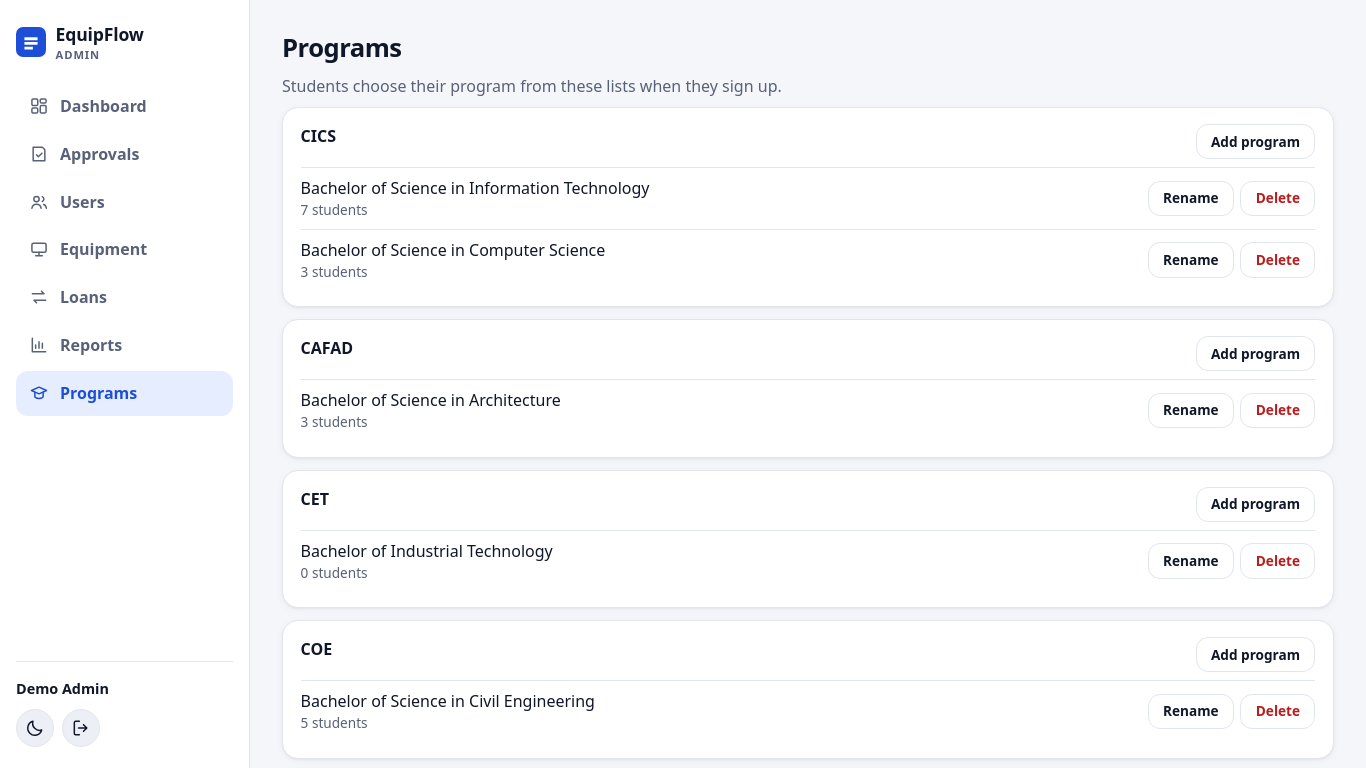
Programs › shows the server's message for a duplicate name and keeps the dialog open
Click the button with aria-label "Add program to CICS": (1255, 142) [1196,124,1315,159]
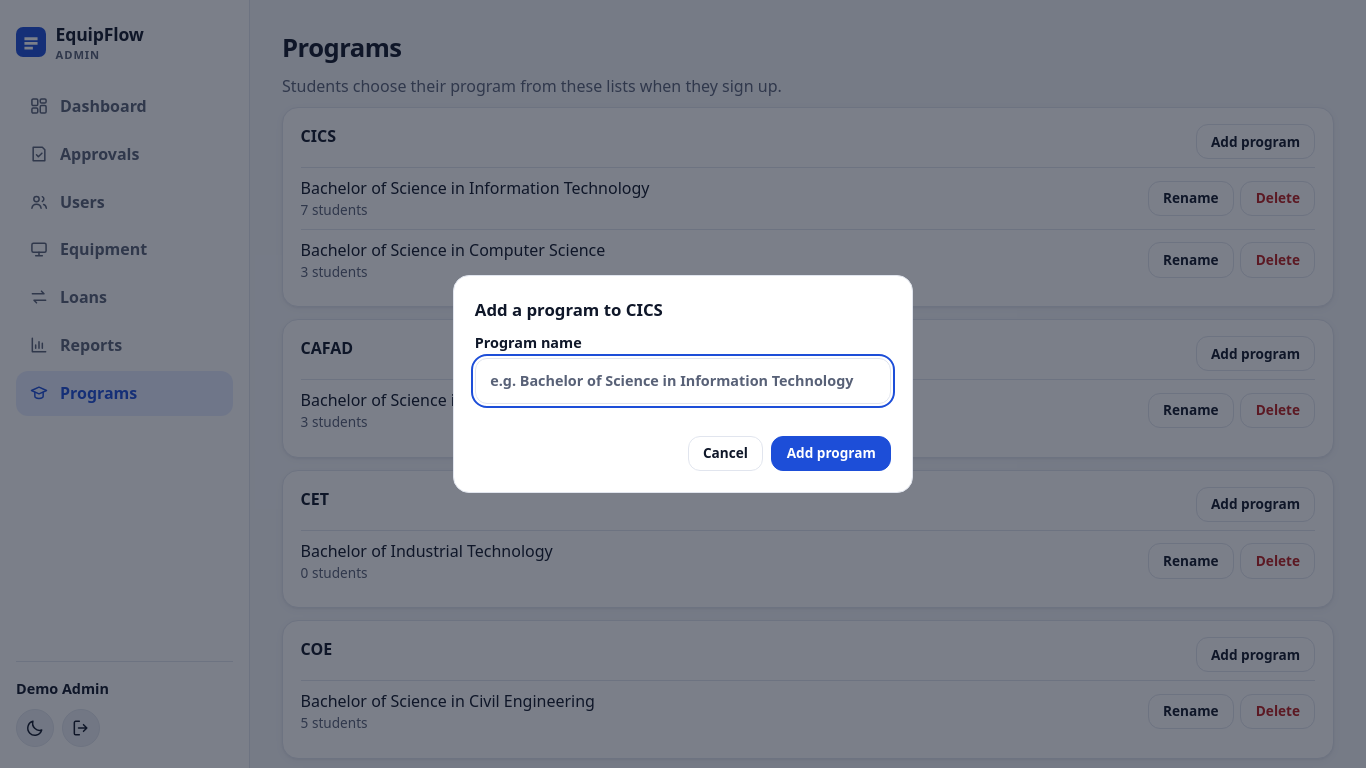
In the field labelled "Program name": (683, 381) [475,358,891,404], type "bachelor of science in information technology"
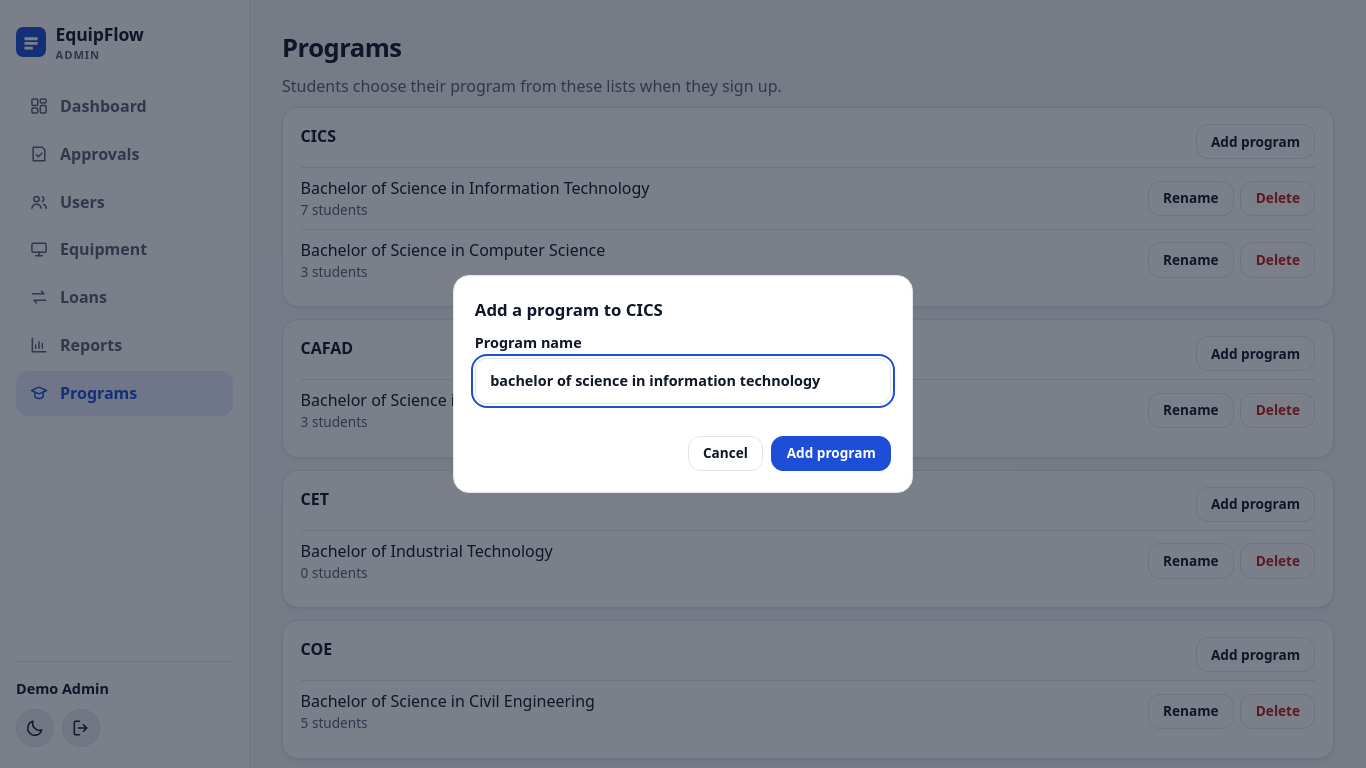
Click the button "Add program": (831, 454) [771,436,891,471]
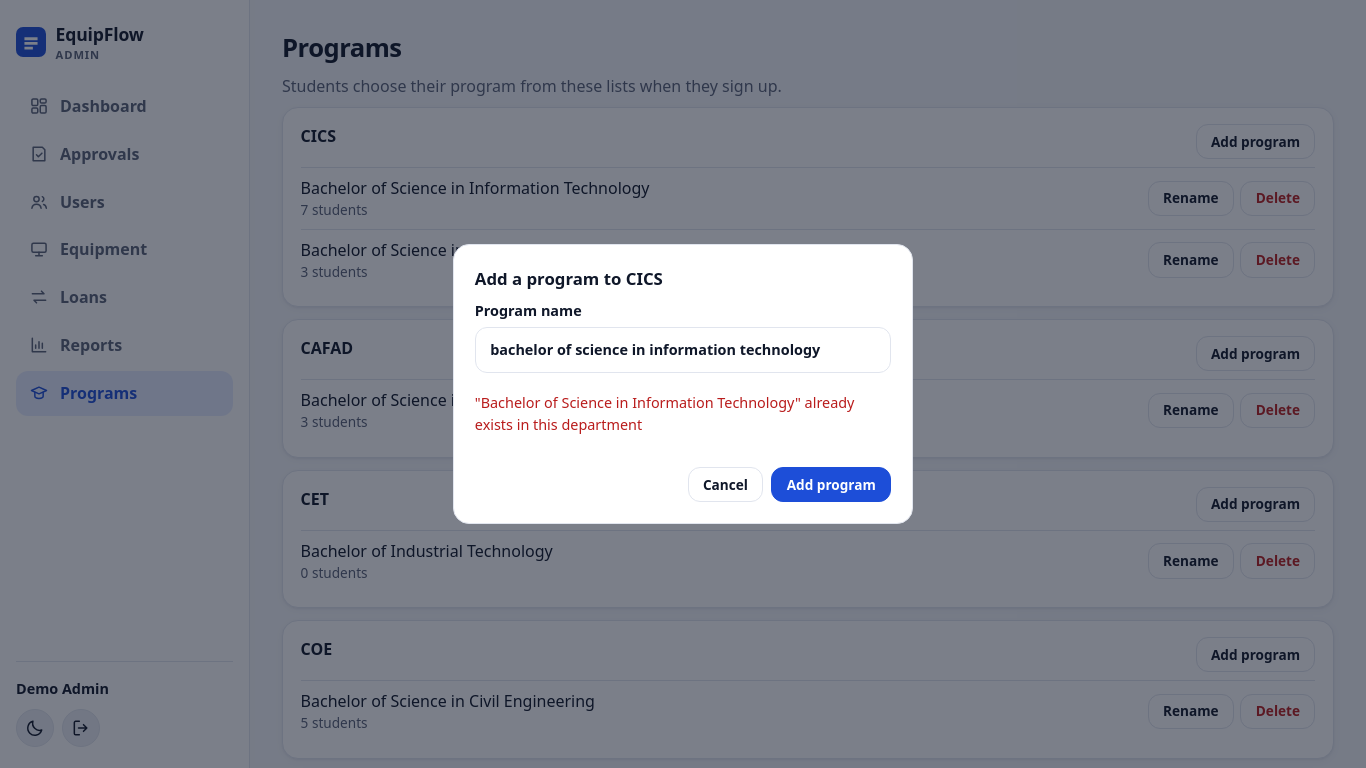
Now the message shows "already exists in this department", box [475,393,854,434]
